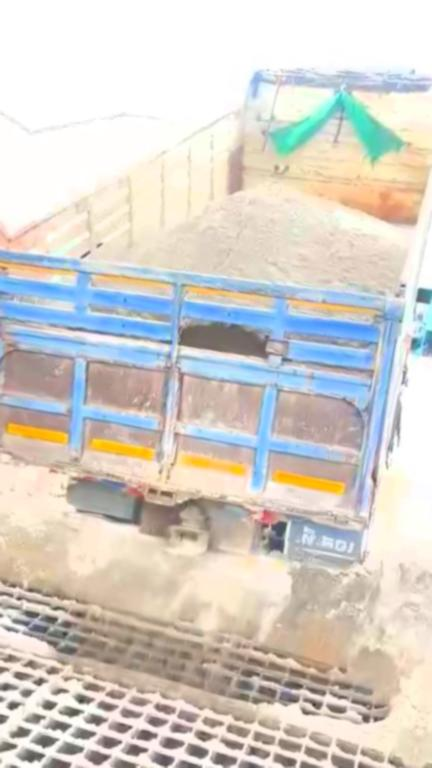gravel: (0, 436, 432, 764), (124, 189, 405, 289), (0, 611, 54, 659)
